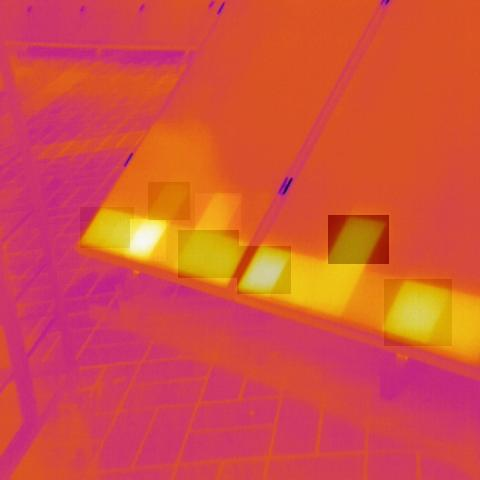fault: (384, 279, 452, 346), (328, 215, 389, 264), (178, 230, 239, 278), (237, 246, 291, 294), (80, 207, 134, 248), (195, 193, 241, 232), (148, 182, 190, 220), (131, 220, 166, 262)
